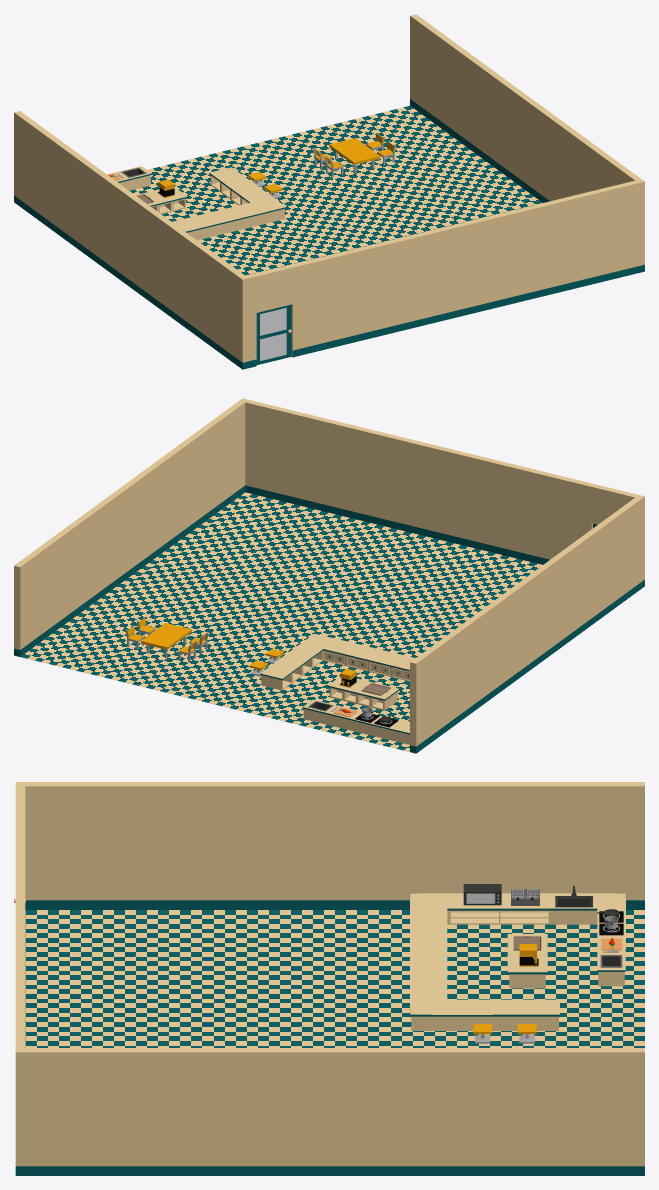
Rendered from Restaurant.fbx.
The picture shows the model from 3 angles, top to bottom: view 1: azimuth 30°, elevation 25°; view 2: azimuth 150°, elevation 25°; view 3: azimuth 270°, elevation 25°; orthographic projection. The views are drawn at different scales.
Parts seen in each view (by area): view 1: Wall, Floor, kitchen Table, DoorGrass, Table, Door; view 2: Wall, Floor, kitchen Table, Table; view 3: Wall, Floor, kitchen Table, Oven.
Part boxes in pixels (<box>): Wall: <box>14,14,644,369</box>; Floor: <box>129,105,542,275</box>; kitchen Table: <box>107,166,286,240</box>; DoorGrass: <box>260,308,286,360</box>; Table: <box>329,138,380,172</box>; Door: <box>256,304,291,364</box>; Wall: <box>14,398,644,753</box>; Floor: <box>21,492,542,751</box>; kitchen Table: <box>260,633,415,744</box>; Table: <box>141,623,191,657</box>; Wall: <box>15,782,644,1175</box>; Floor: <box>25,910,644,1047</box>; kitchen Table: <box>410,886,625,1030</box>; Oven: <box>463,884,501,905</box>.
Size of the model in its own units: 22.29 by 4.76 by 22.01.
